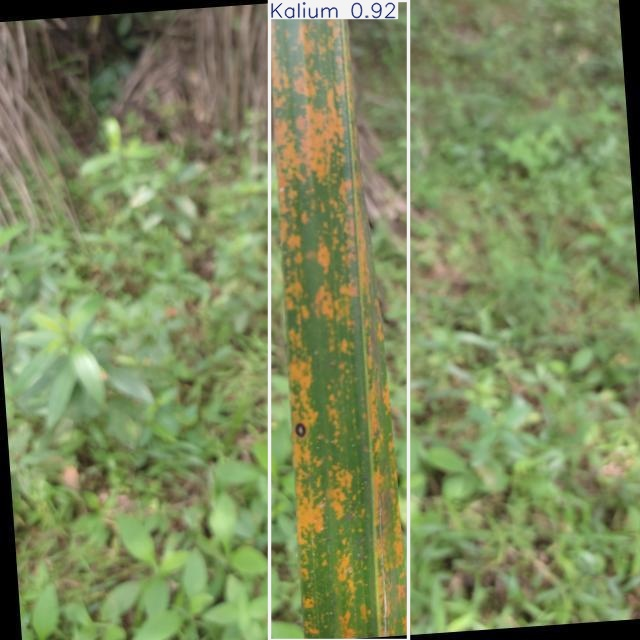Kalium: (269, 0, 409, 640)
